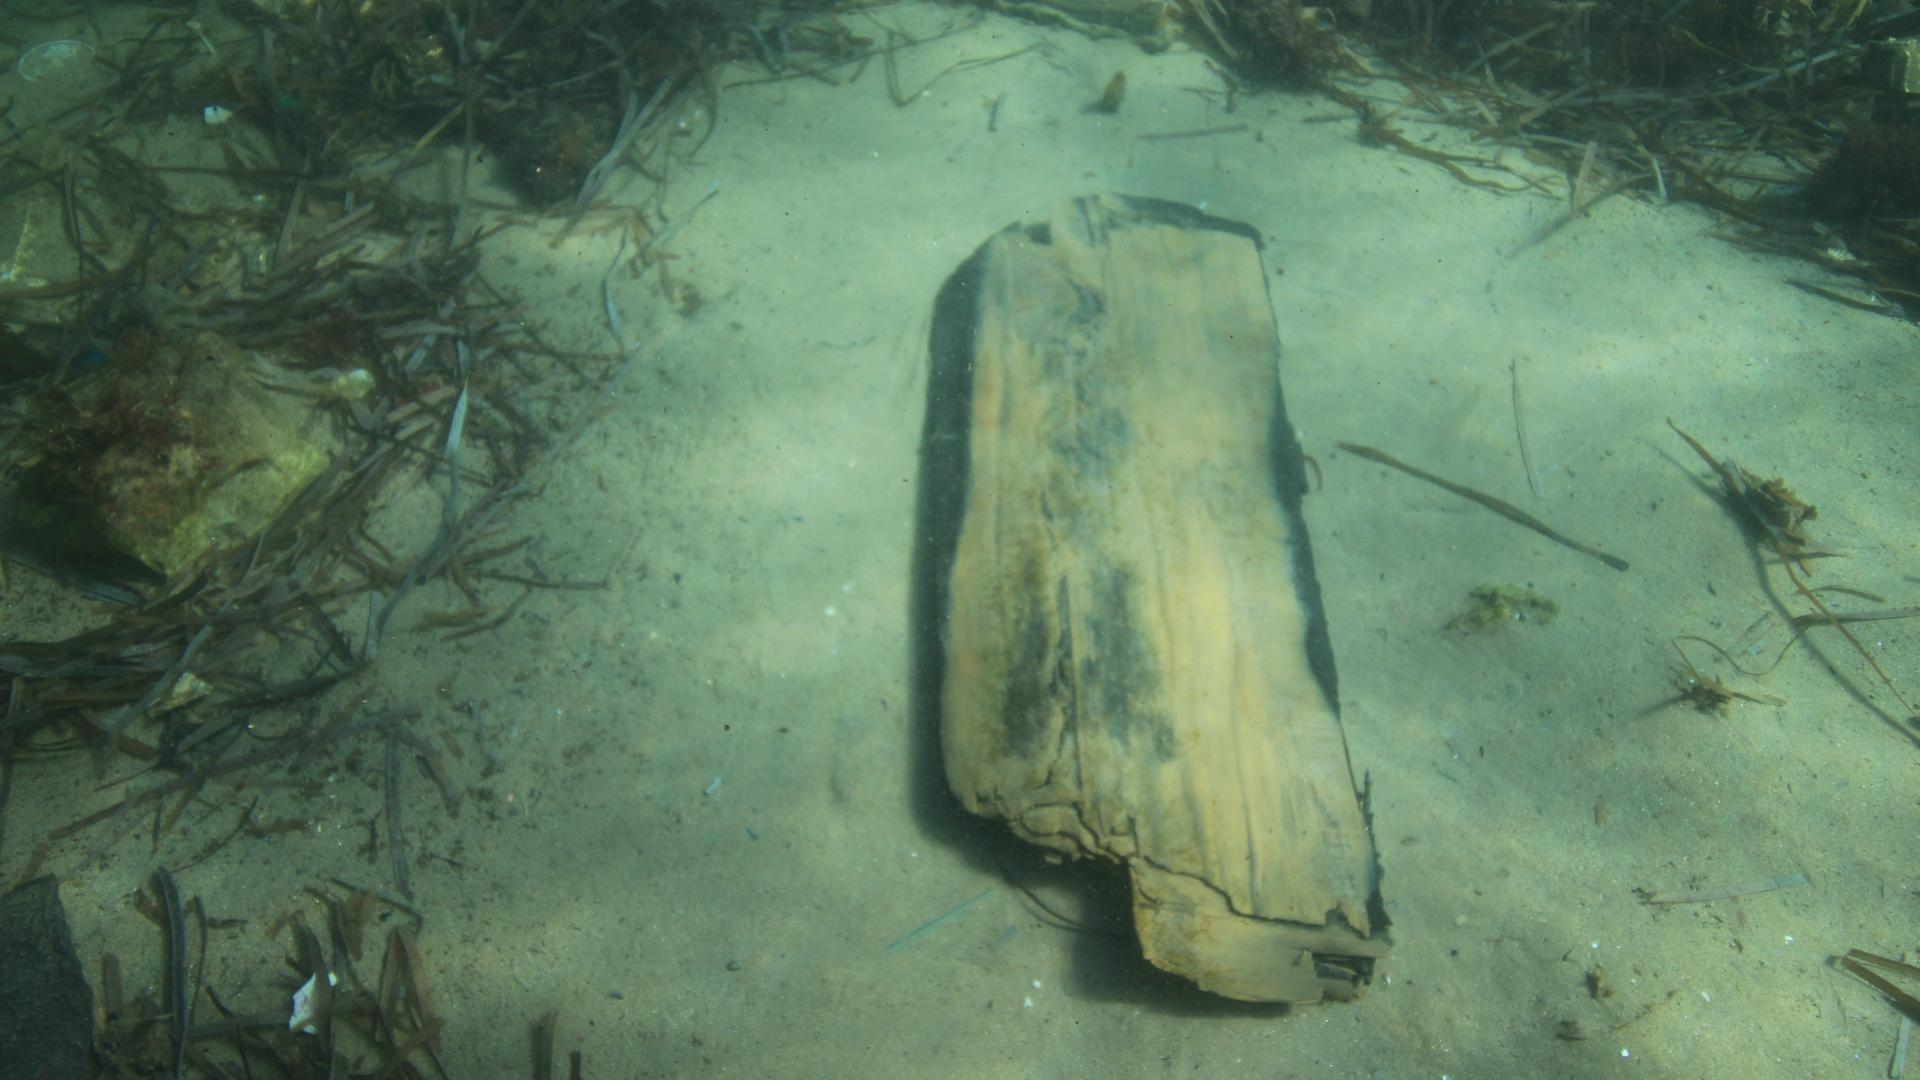wood: (945, 189, 1393, 1007)
